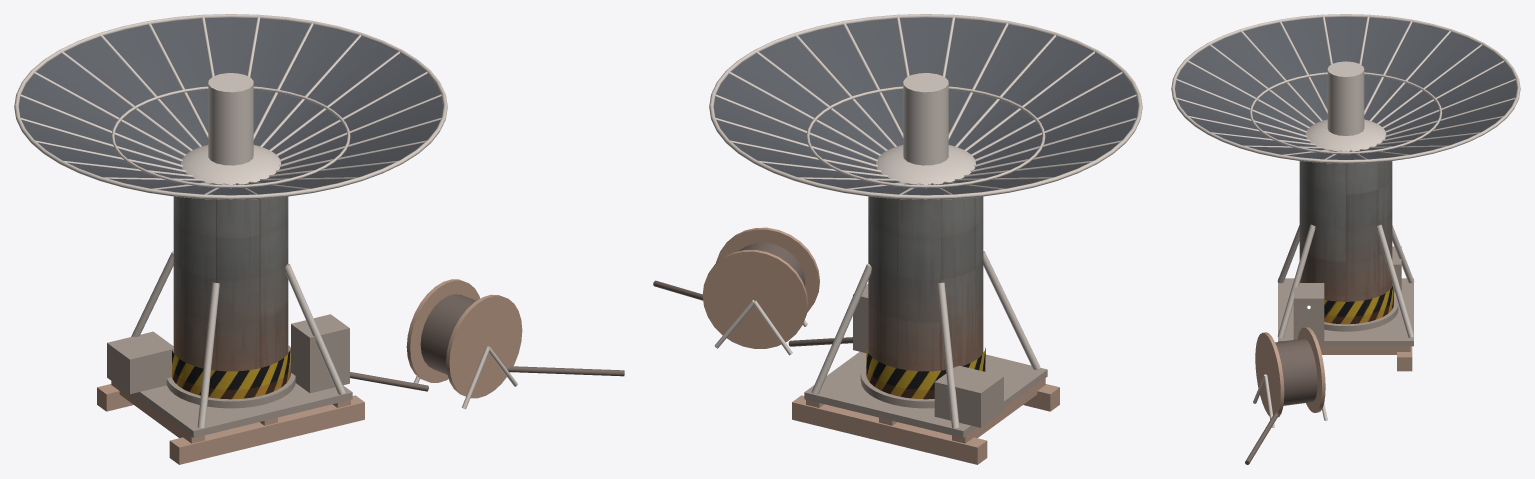
Rendered from E04_fission_reactor_small.glb.
The picture shows the model from 3 angles, left to right: view 1: azimuth 30°, elevation 25°; view 2: azimuth 150°, elevation 25°; view 3: azimuth 270°, elevation 25°; orthographic projection. The views are drawn at different scales.
Visible parts, largest first — view 1: radiator_cone, vessel_head, reactor_vessel, skid, deck, cable_winding, warning_band; view 2: radiator_cone, vessel_head, reactor_vessel, skid, deck, warning_band, cable_winding; view 3: radiator_cone, vessel_head, reactor_vessel, deck, skid, cable_winding, warning_band.
Part boxes in pixels (left/top/right/bottom): radiator_cone: left=19, top=18, right=443, bottom=195; vessel_head: left=14, top=14, right=517, bottom=428; reactor_vessel: left=173, top=196, right=288, bottom=371; skid: left=97, top=279, right=522, bottom=464; deck: left=107, top=314, right=352, bottom=437; cable_winding: left=350, top=294, right=624, bottom=391; warning_band: left=172, top=348, right=290, bottom=399; radiator_cone: left=713, top=18, right=1137, bottom=195; vessel_head: left=709, top=14, right=1142, bottom=428; reactor_vessel: left=868, top=196, right=983, bottom=371; skid: left=702, top=227, right=1059, bottom=464; deck: left=804, top=284, right=1047, bottom=437; warning_band: left=866, top=347, right=985, bottom=399; cable_winding: left=653, top=242, right=852, bottom=346; radiator_cone: left=1175, top=17, right=1516, bottom=159; vessel_head: left=1171, top=14, right=1520, bottom=427; reactor_vessel: left=1299, top=161, right=1392, bottom=301; deck: left=1278, top=246, right=1413, bottom=346; skid: left=1255, top=327, right=1412, bottom=417; cable_winding: left=1245, top=338, right=1317, bottom=464; warning_band: left=1324, top=286, right=1393, bottom=324.
Size of the model in its own units: 7.84 by 4.75 by 5.66.
Materials: 8 (2 with a texture image).
